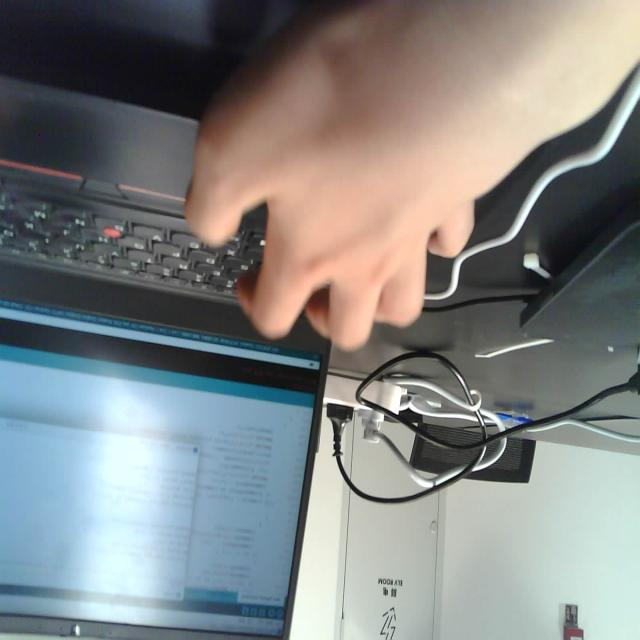keyboard-with-hands: (0, 72, 358, 318)
